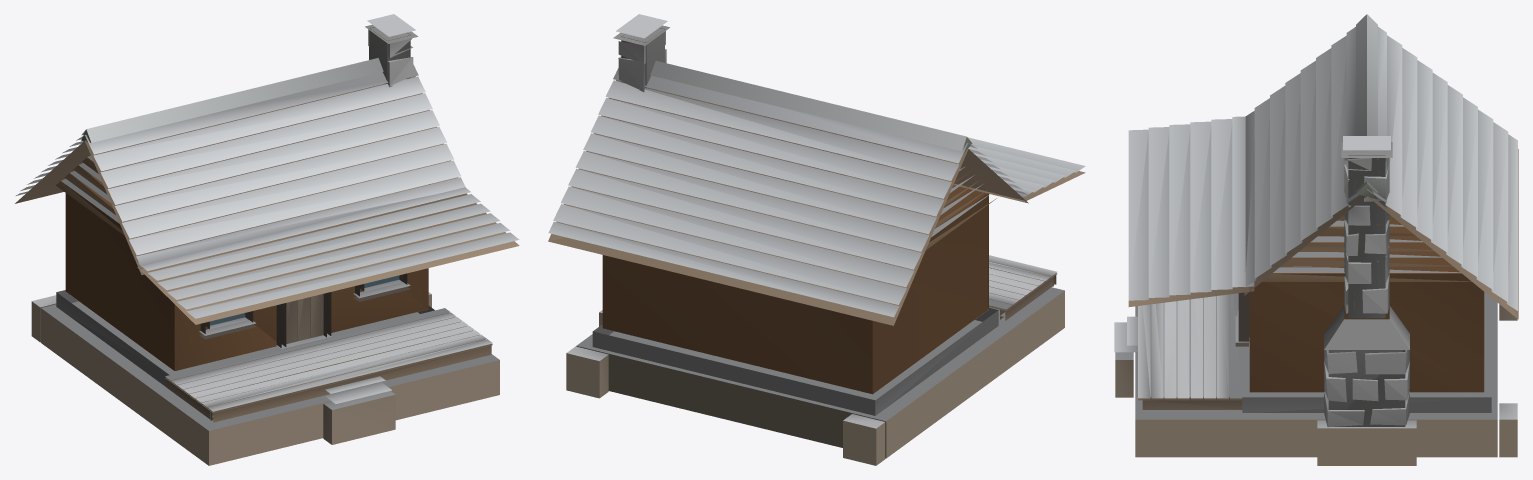
File: cabin.lod.glb
3 views of the same model, side by side, from view 1: azimuth 30°, elevation 25°; view 2: azimuth 150°, elevation 25°; view 3: azimuth 270°, elevation 25° (orthographic). The views are drawn at different scales.
Visible parts, largest first — view 1: cabin; view 2: cabin; view 3: cabin.
Part boxes in pixels (x1,y1,x2,y2): cabin: [15, 14, 519, 465]; cabin: [548, 14, 1085, 465]; cabin: [1114, 14, 1518, 465].
Bounding box in the file's own units: 10 × 8.56 × 10.
